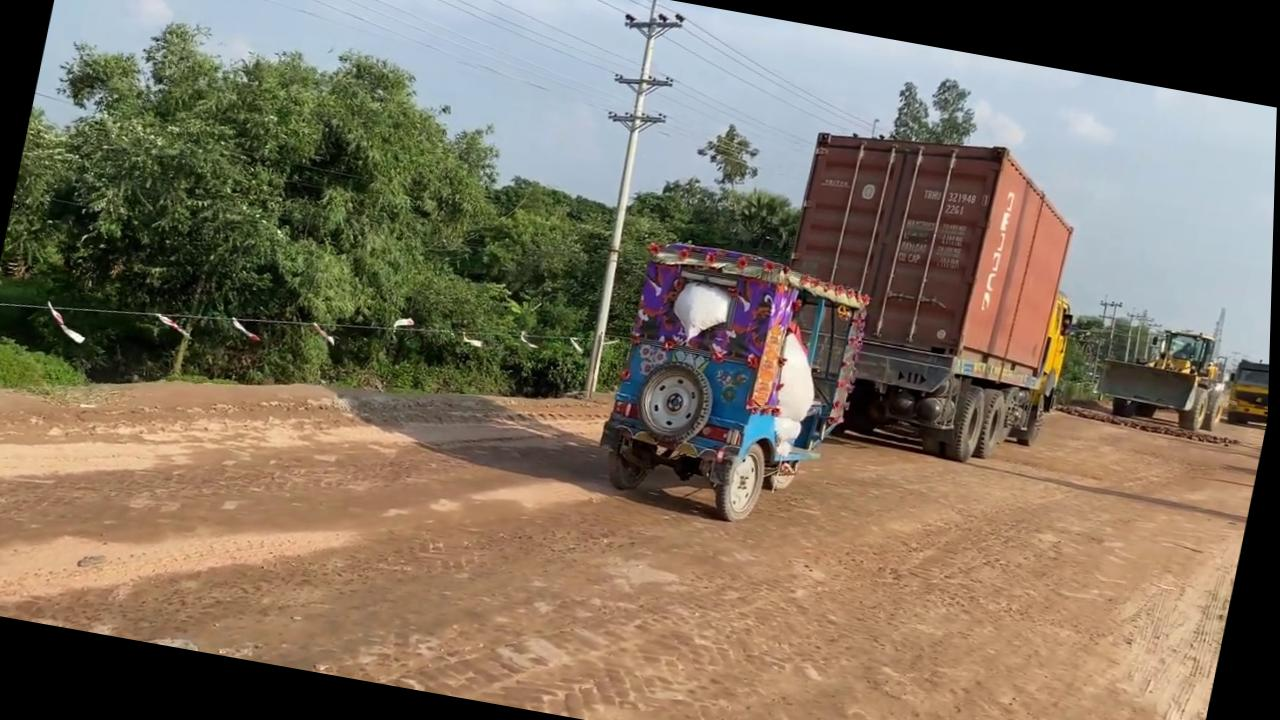Muddy road: (0, 202, 1271, 720)
Pole: (548, 0, 689, 401)
Traffic-sign: (0, 0, 579, 442), (886, 67, 986, 152)
Tree: (754, 112, 1107, 474), (588, 230, 881, 538), (1091, 314, 1237, 434), (1222, 353, 1272, 427)
